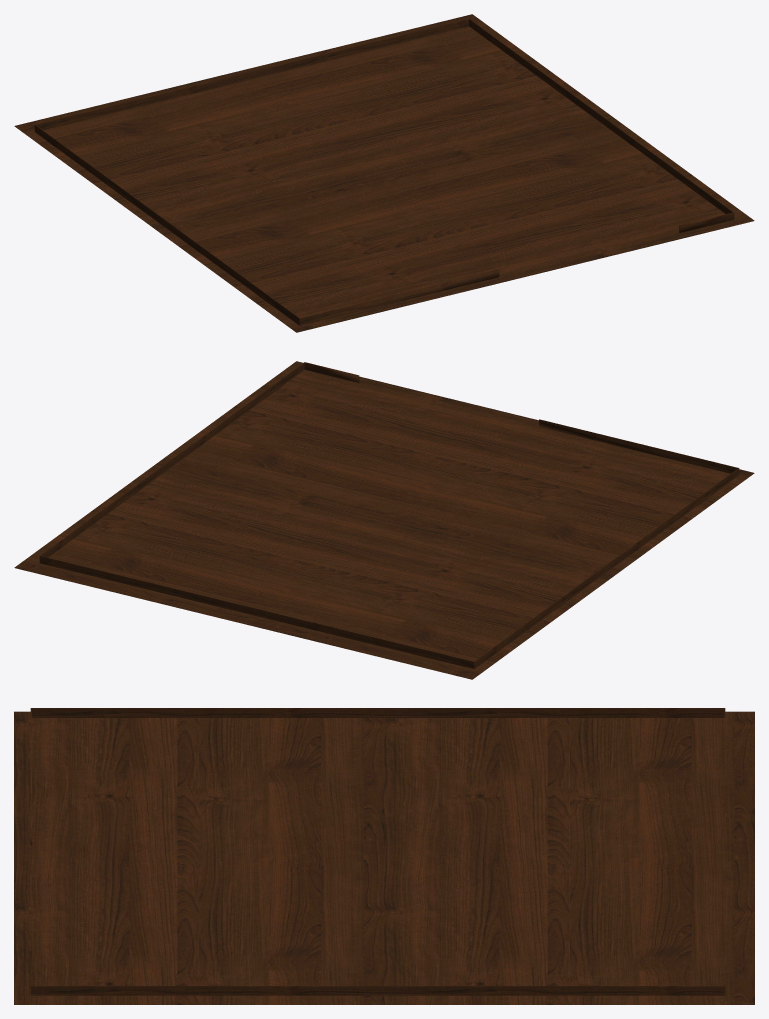
The model's file is QD-清地板.fbx.
3 views of the same model, one above another, from view 1: azimuth 30°, elevation 25°; view 2: azimuth 150°, elevation 25°; view 3: azimuth 270°, elevation 25° (orthographic). The views are drawn at different scales.
Parts seen in each view (by area): view 1: QD-清地板; view 2: QD-清地板; view 3: QD-清地板.
Part boxes in pixels (x1,y1,x2,y2): QD-清地板: [14, 14, 754, 332]; QD-清地板: [14, 361, 754, 679]; QD-清地板: [14, 708, 754, 1004].
Size of the model in its own units: 5.45 by 5.82 by 0.0925.
